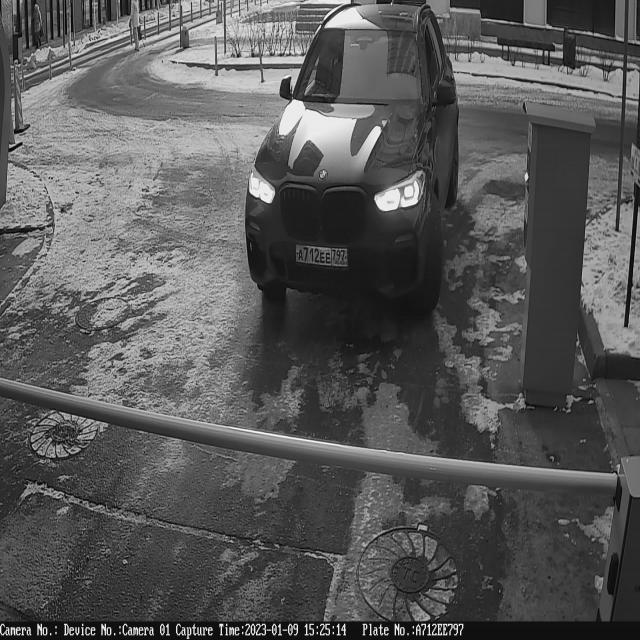car-plate-numbers: (294, 239, 352, 272)
